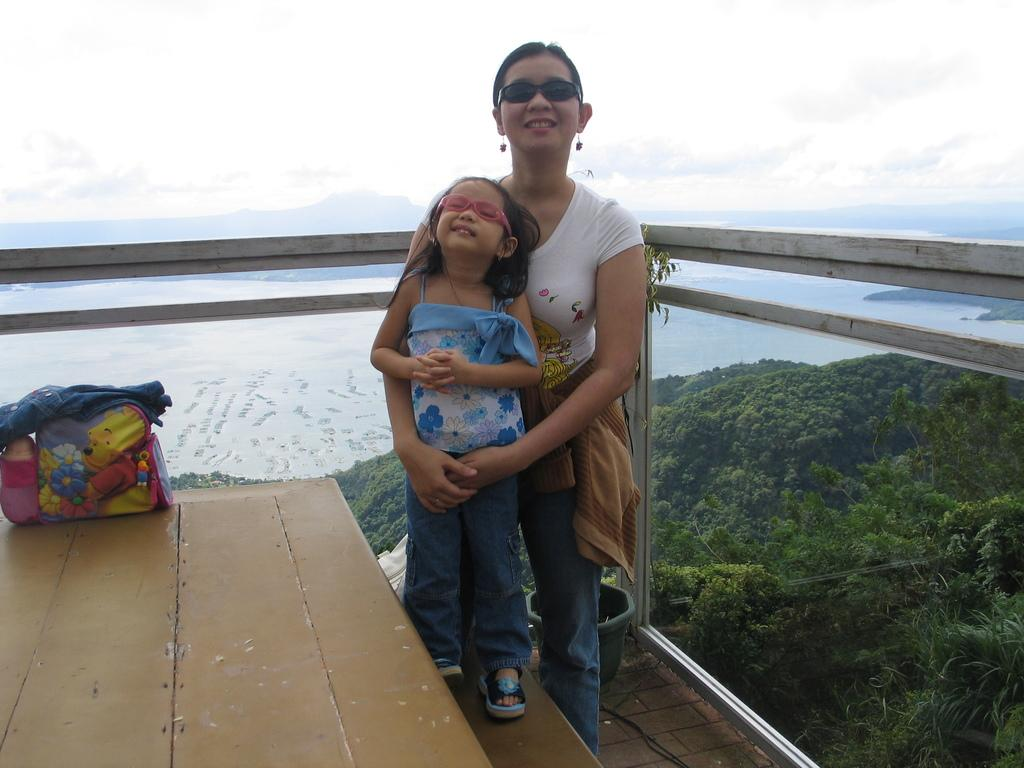Luggage-and-bags: (0, 401, 176, 517)
